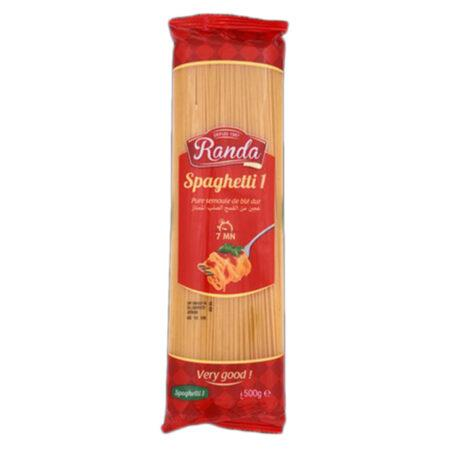Spaghetti: (176, 20, 276, 430)
